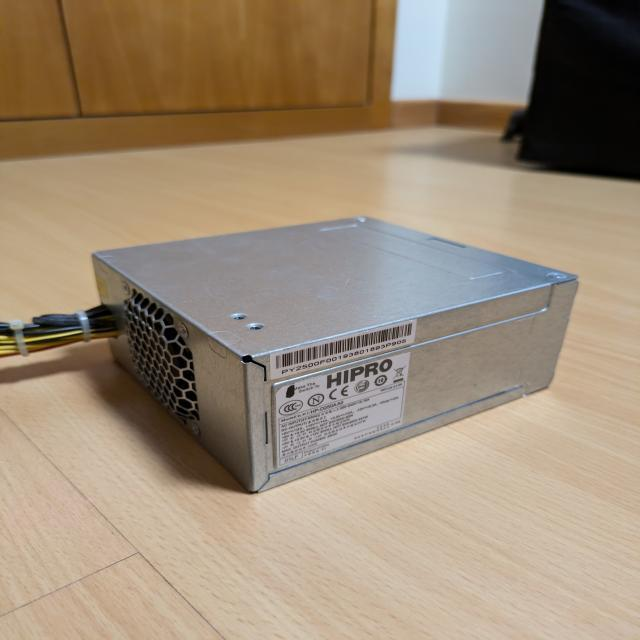PSU: (92, 215, 579, 494)
